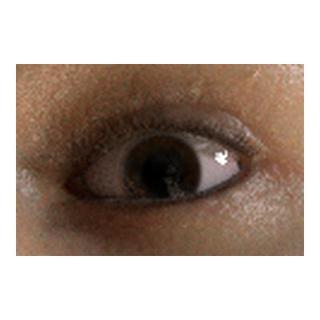pupil: (143, 155, 180, 191)
